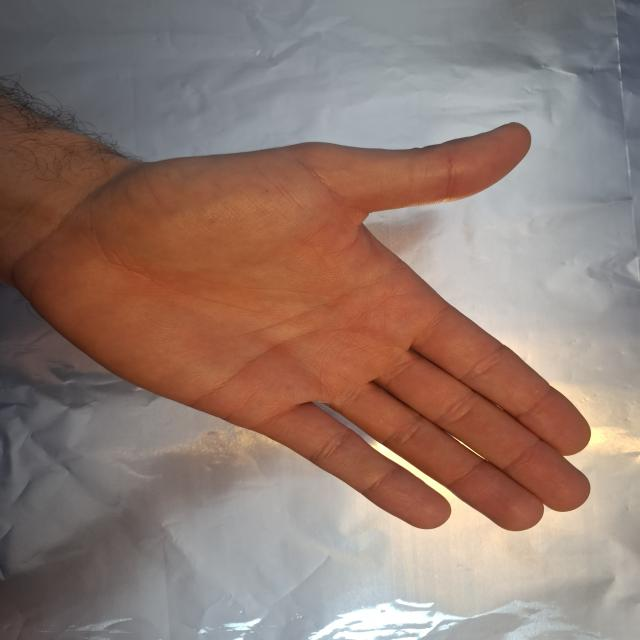glove_off: (8, 119, 596, 534)
